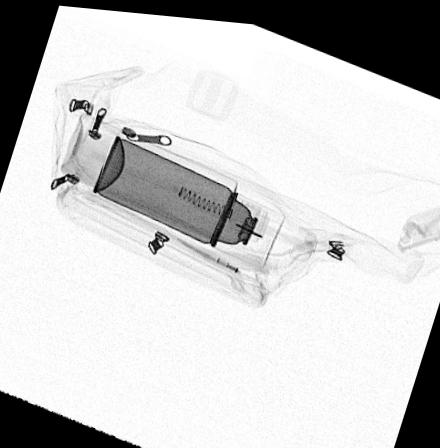Sprayer: (90, 131, 287, 265)
